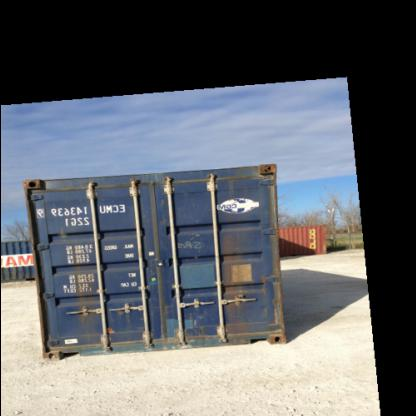Damage: (70, 245, 96, 327), (218, 235, 242, 322), (258, 256, 282, 334), (182, 306, 210, 344), (178, 230, 206, 260), (250, 156, 276, 184), (24, 178, 52, 200), (115, 294, 132, 320)
